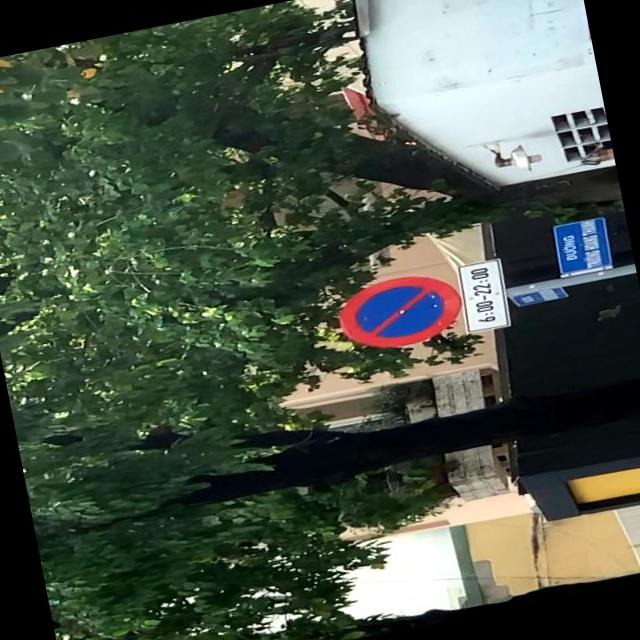P-131a: (332, 264, 469, 359)
